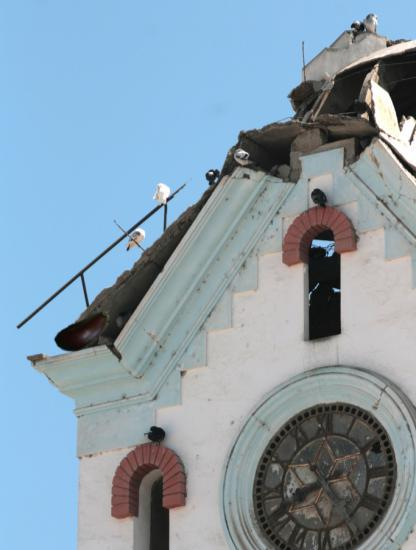Eggplant: (53, 301, 117, 365)
